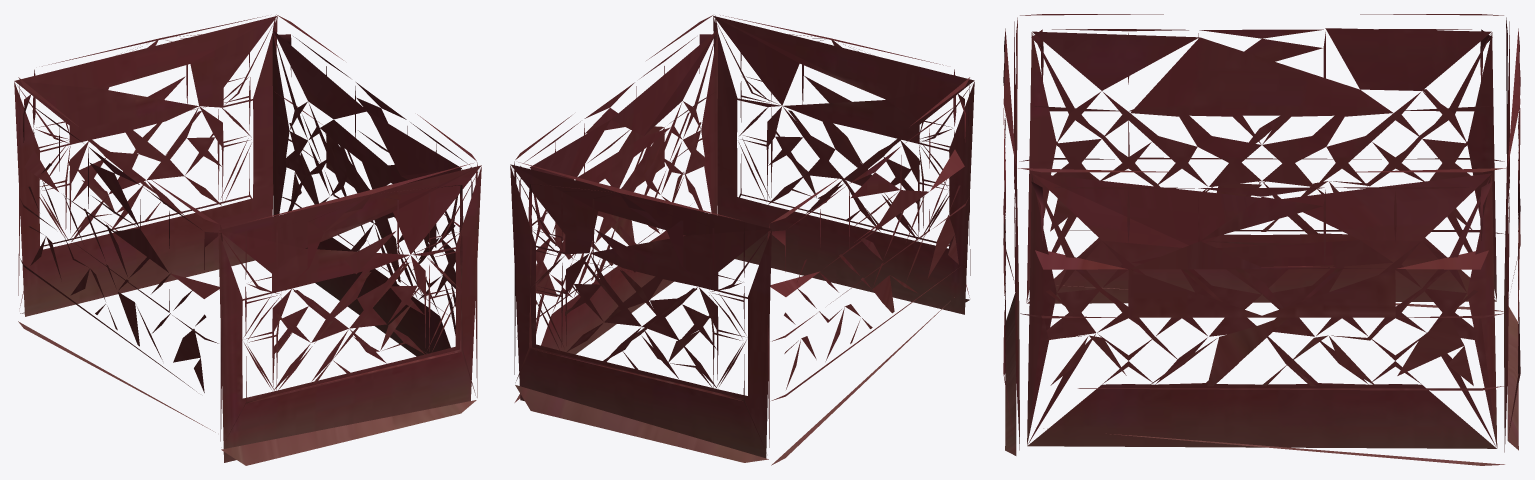
The model's file is crate_plastic.glb.
The picture shows the model from 3 angles, left to right: view 1: azimuth 30°, elevation 25°; view 2: azimuth 150°, elevation 25°; view 3: azimuth 270°, elevation 25°; orthographic projection. The views are drawn at different scales.
Parts seen in each view (by area): view 1: crate_plastic; view 2: crate_plastic; view 3: crate_plastic.
Part boxes in pixels (bbox=[...]): crate_plastic: bbox=[14, 14, 481, 465]; crate_plastic: bbox=[510, 15, 974, 465]; crate_plastic: bbox=[1003, 14, 1520, 465].
Size of the model in its own units: 0.362 by 0.316 by 0.4991.
1 material, 1 textured.
